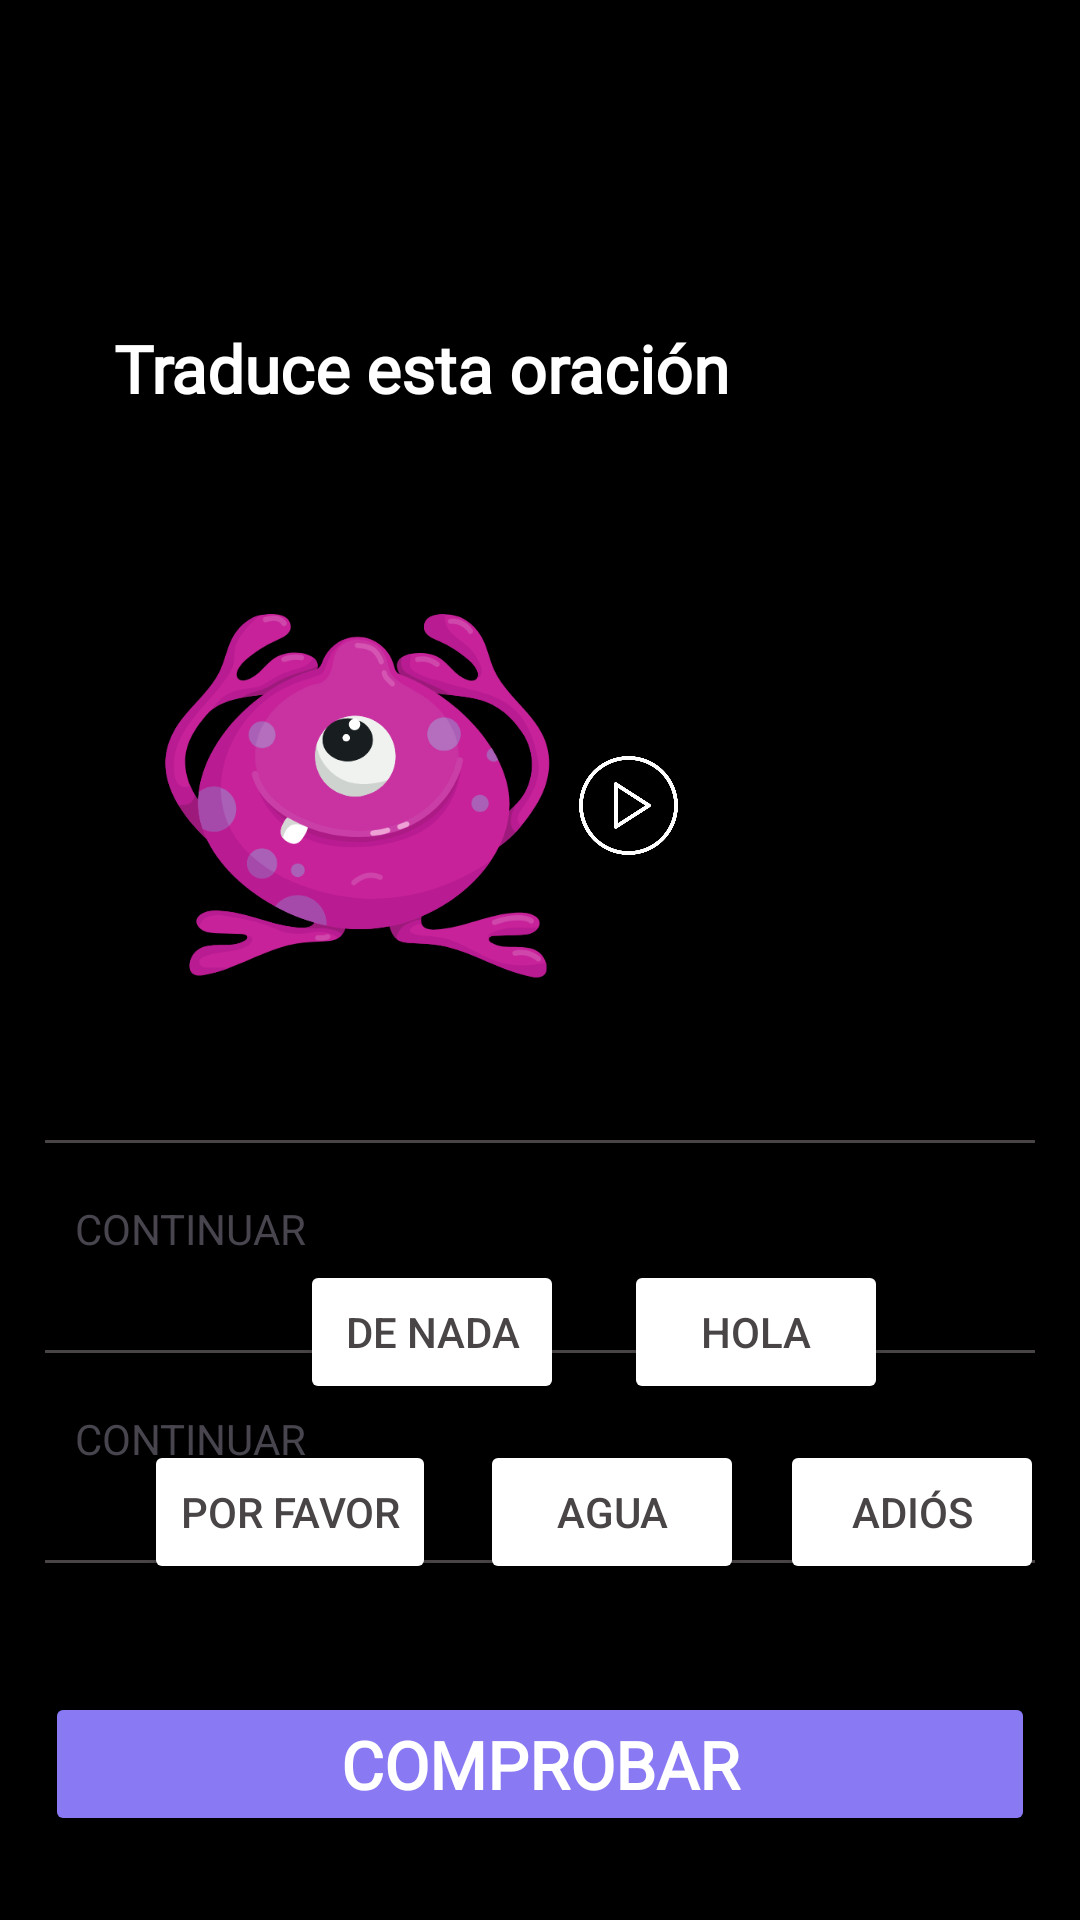

Named icons in this screenshot (1080px x 1920px) and their bounding boxes, (x1, y1, x2, y2):
play: (579, 756, 678, 855)
